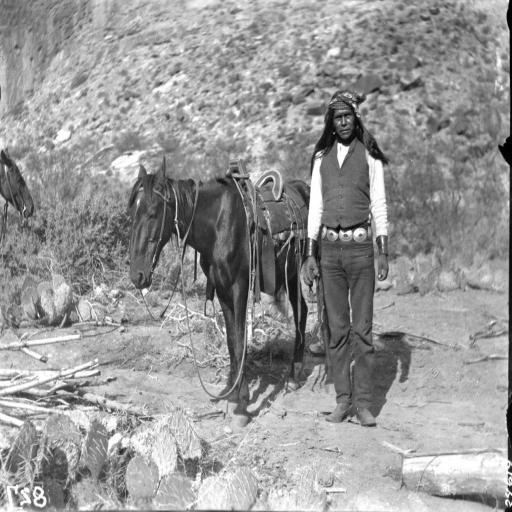horse: (128, 154, 312, 428), (0, 148, 35, 223)
